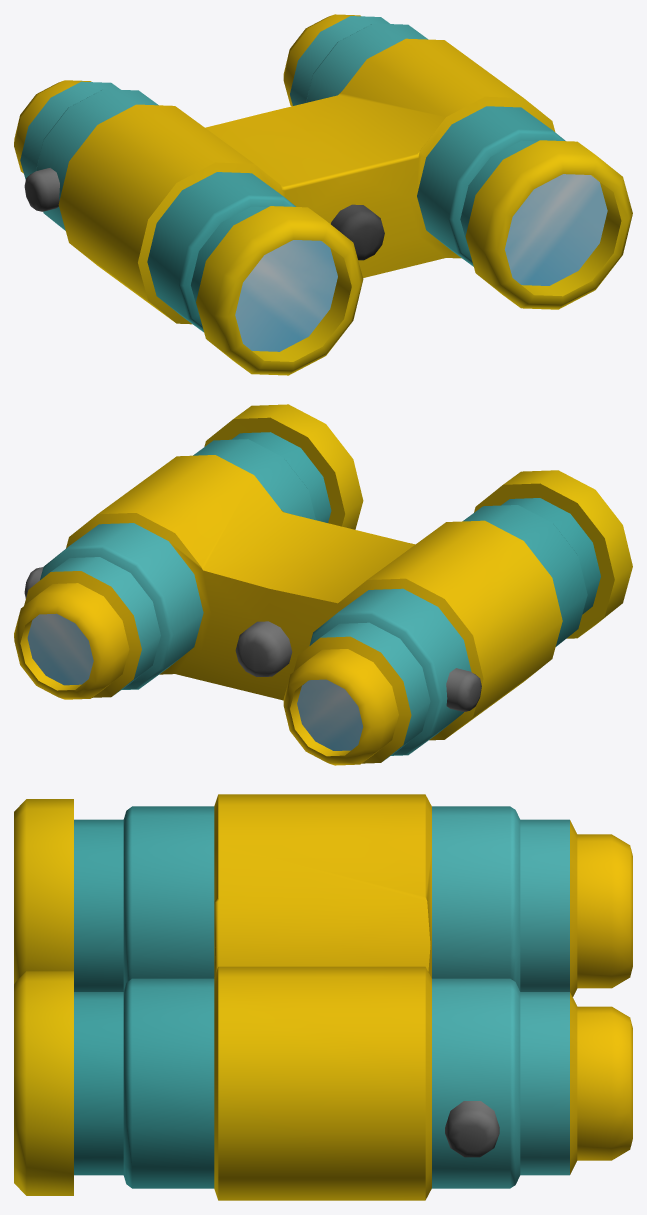
File: Binoculars_2.fbx
The picture shows the model from 3 angles, top to bottom: view 1: azimuth 30°, elevation 25°; view 2: azimuth 150°, elevation 25°; view 3: azimuth 270°, elevation 25°; orthographic projection. The views are drawn at different scales.
Parts seen in each view (by area): view 1: Binoculars_2; view 2: Binoculars_2; view 3: Binoculars_2.
Part boxes in pixels (x1=…): Binoculars_2: x1=14, y1=14, x2=632, y2=375; Binoculars_2: x1=14, y1=404, x2=632, y2=765; Binoculars_2: x1=14, y1=794, x2=632, y2=1200.
Bounding box in the file's own units: 0.1577 × 0.0552 × 0.1454.
